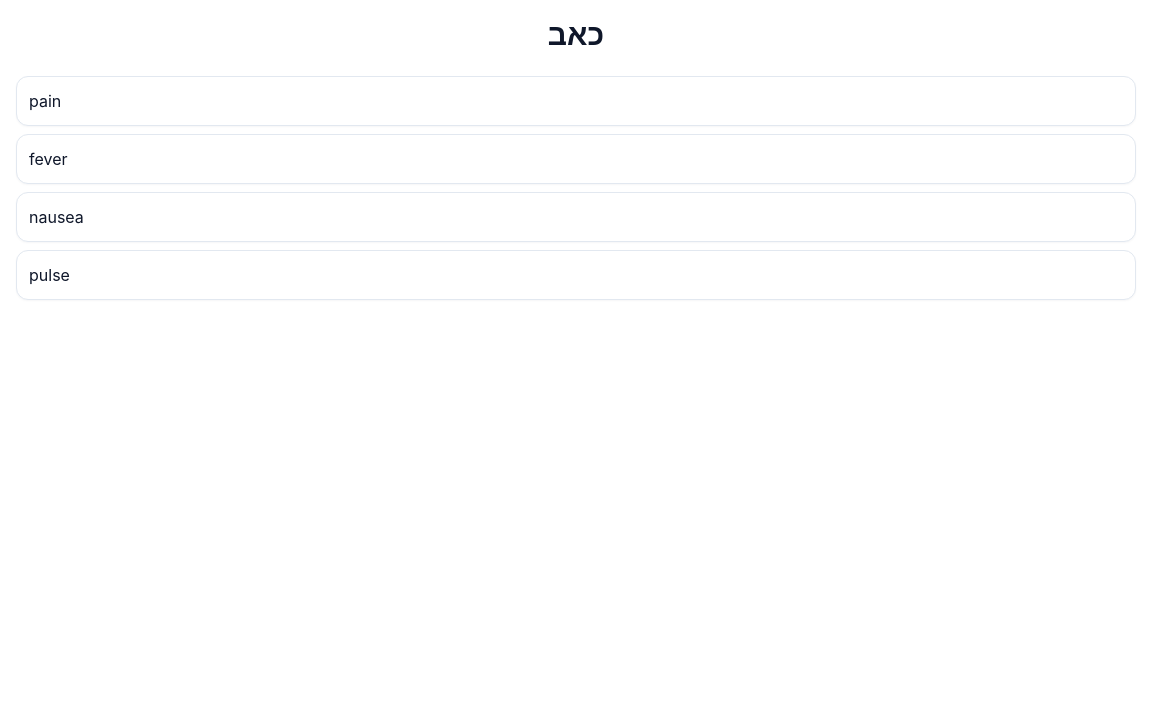
Scenario: ReviewPage › requeues a wrong answer once
What coordinates should you click on to do the following:
click the button with test id "exercise-(option|tile)-"
I would click on:
 (48, 159)
Its box is [16,134,1136,184].
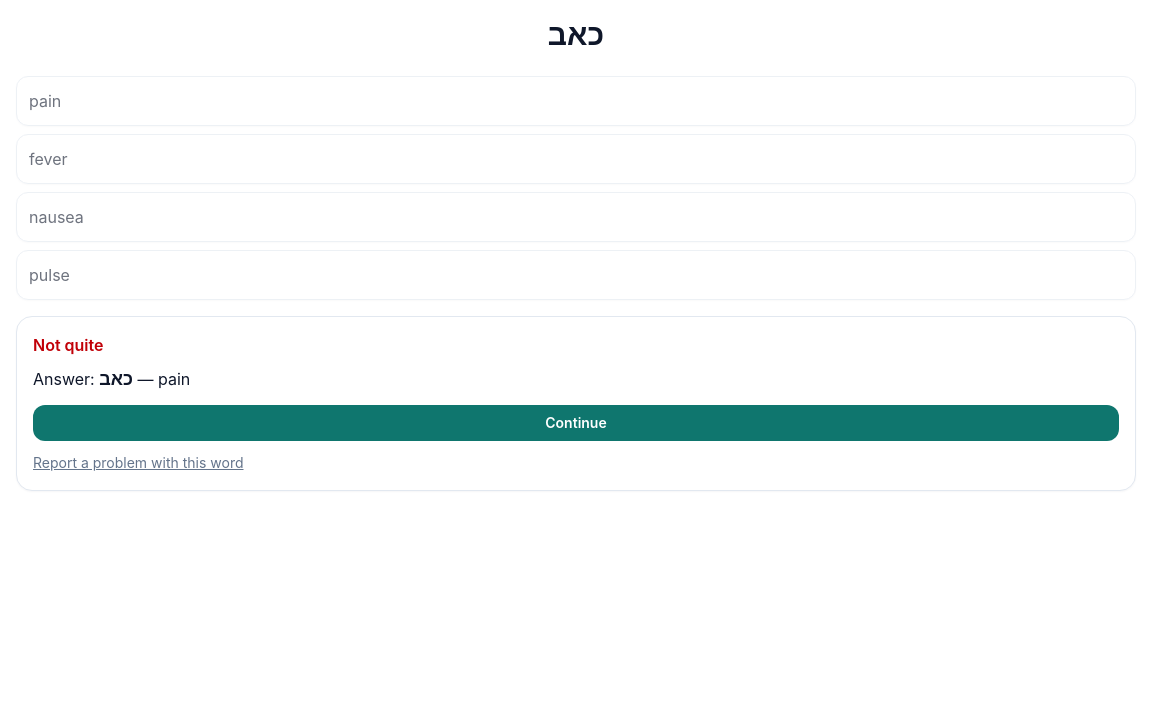
What coordinates should you click on to do the following:
click the button with test id "exercise-continue"
I would click on:
 (576, 423)
Its box is [33,405,1119,441].
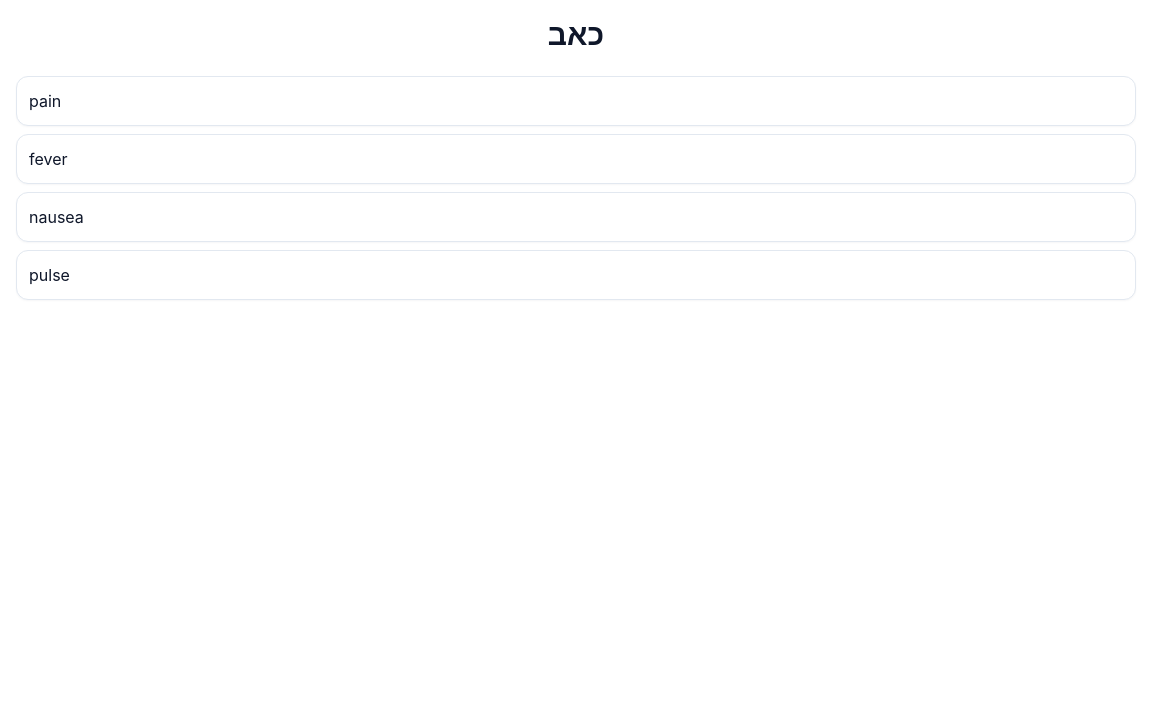
What coordinates should you click on to do the following:
click the button with test id "exercise-(option|tile)-"
I would click on:
 (45, 101)
Its box is [16,76,1136,126].
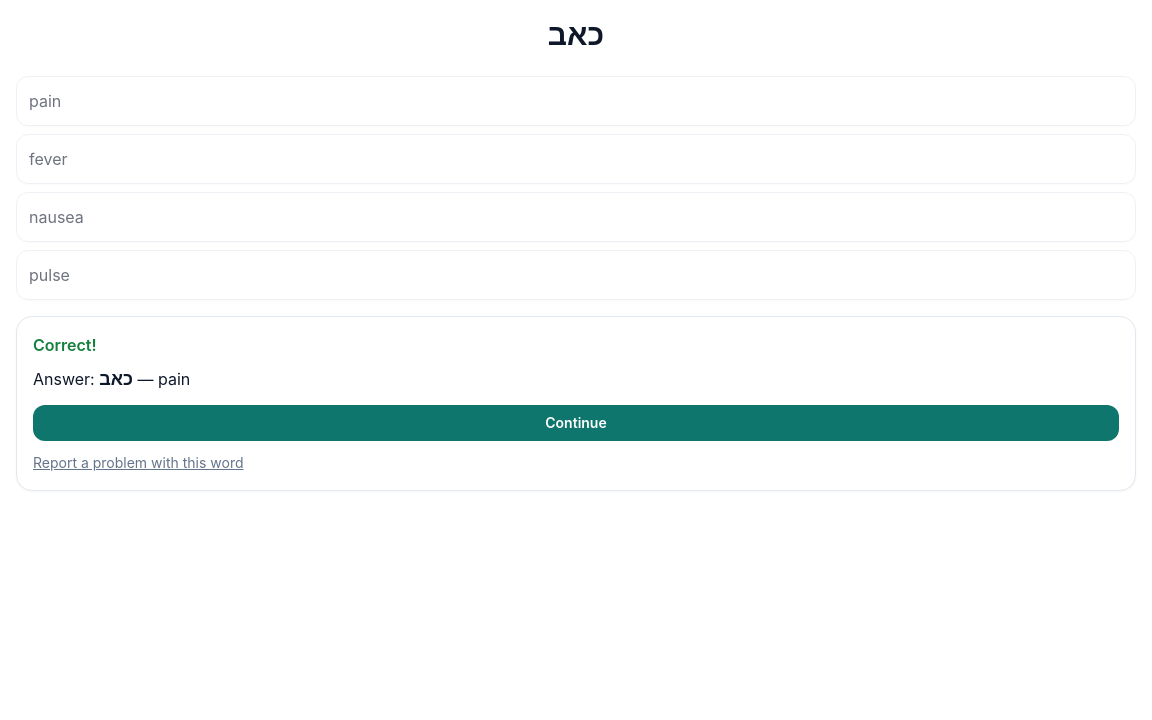
What coordinates should you click on to do the following:
click the button with test id "exercise-continue"
I would click on:
 (576, 423)
Its box is [33,405,1119,441].
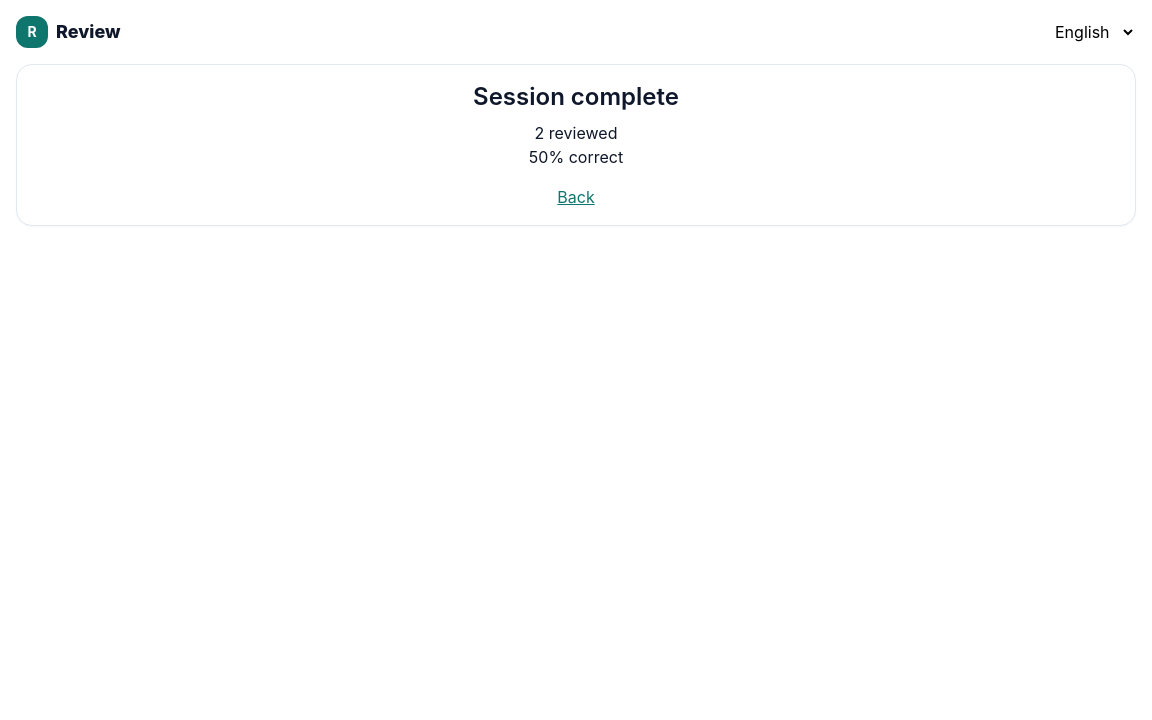
Result: the element with test id "review-summary" is shown at [16,64,1136,226]
